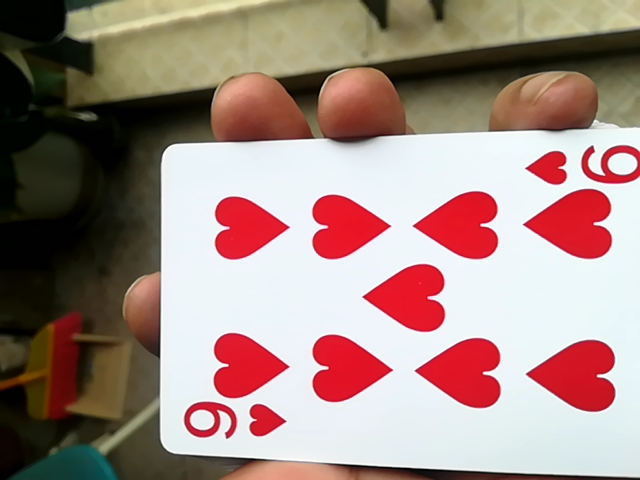hx 9: (149, 128, 634, 480)
